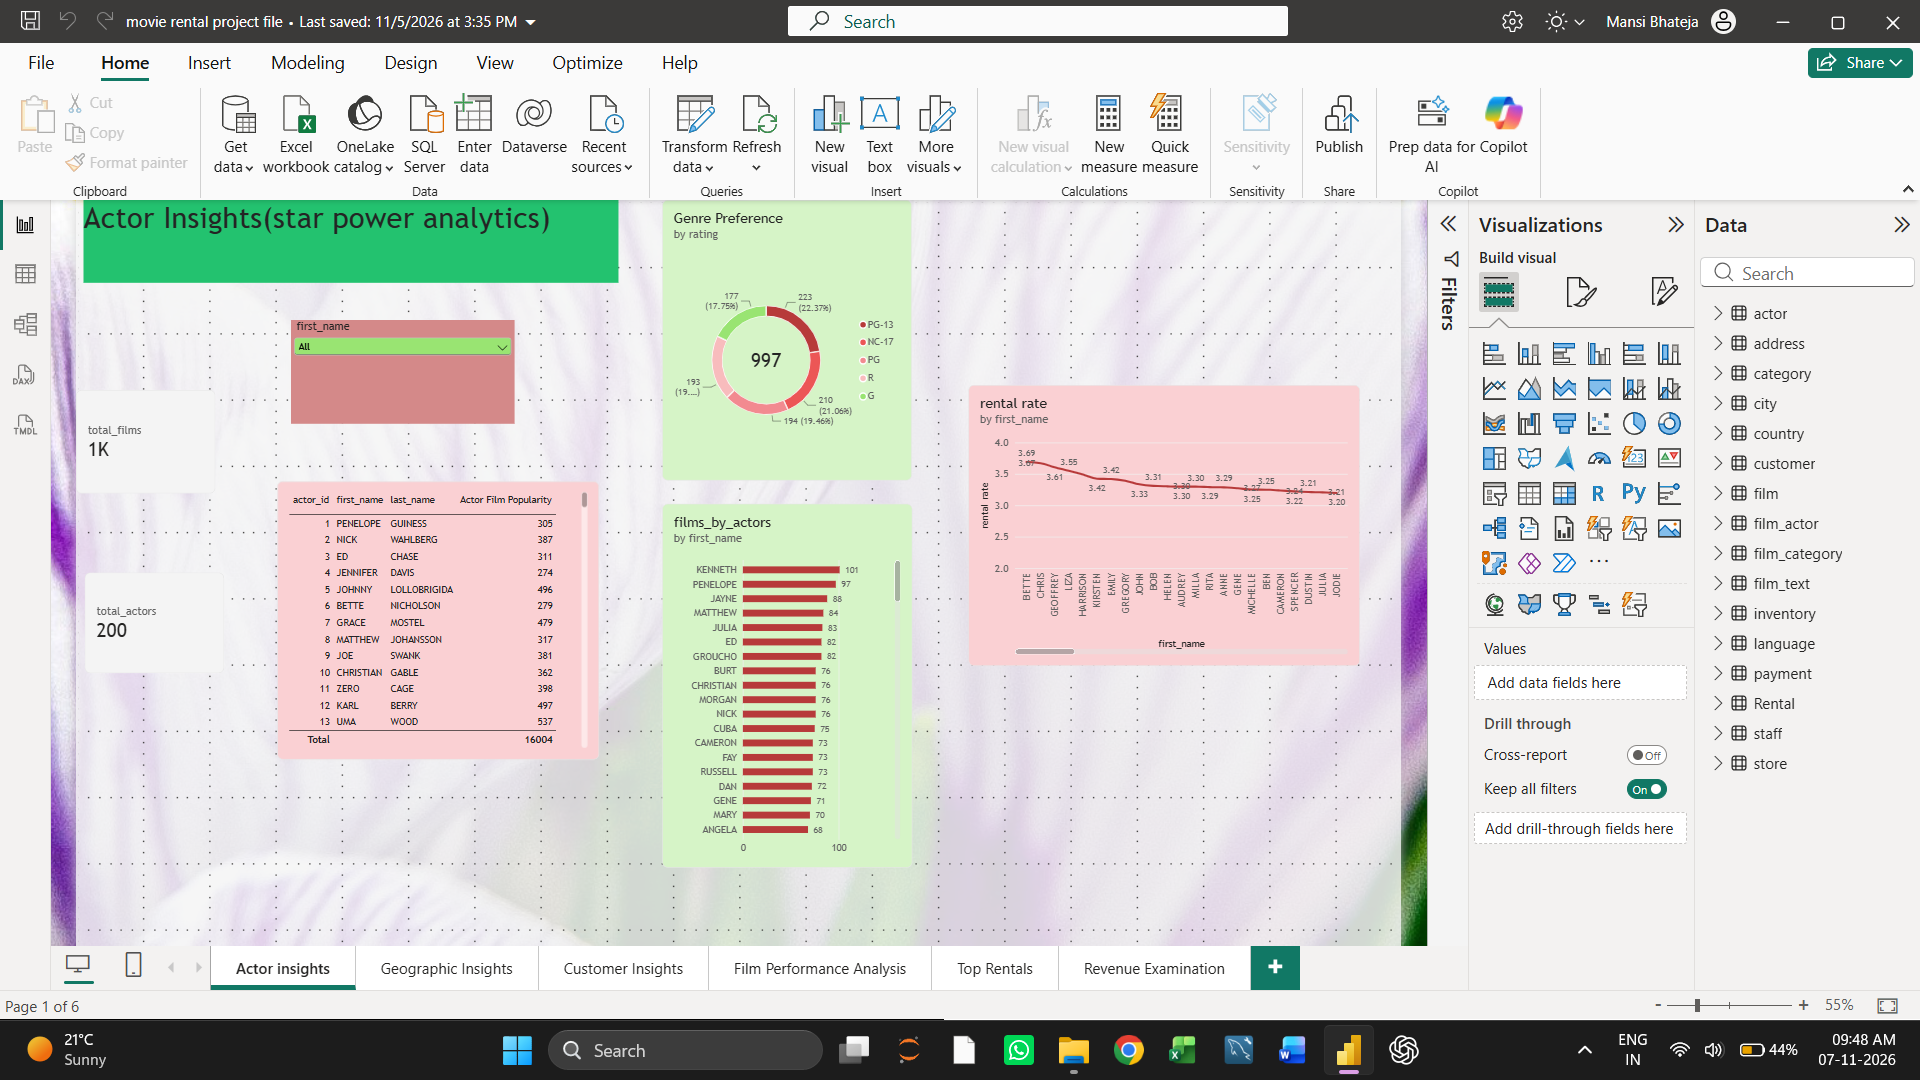

The page's visual inventory and layout, read from the dashboard file:
{"tool":"powerbi","page":{"name":"Actor insights","canvas":[1920,1080],"ordinal":0},"visuals":[{"type":"textbox","box":[10,0,775,120],"z":0},{"type":"cardVisual","fields":{"Data":["film.total_films"]},"box":[0,275.3,202,150],"z":1000},{"type":"cardVisual","fields":{"Data":["actor.total_actors"]},"box":[12.7,539.8,202,146],"z":2000},{"type":"slicer","fields":{"Values":["actor.first_name"]},"box":[311.5,173.9,324,150],"z":4000},{"type":"tableEx","fields":{"Values":["actor.actor_id","actor.first_name","actor.last_name","film.Actor Film Popularity"]},"box":[291.6,407.5,466.7,403.3],"z":5000},{"type":"donutChart","fields":{"Category":["film.rating"],"Y":["actor.Genre Preference"]},"box":[850,0,361.7,406.7],"z":6000},{"type":"barChart","fields":{"Category":["actor.first_name"],"Y":["actor.films_by_actors"]},"box":[849.5,440.2,362.3,527.1],"z":7000},{"type":"lineChart","fields":{"Category":["actor.first_name"],"Y":["film.Average Rental Rate by Actor"]},"box":[1293.3,268.1,566.9,407.5],"z":8000}]}

Visuals, with their boxes on the page's 1920x1080 design canvas (x1, y1, x2, y2). These are canvas units, not pixel positions in the 1920x1080 screenshot, which may show the page scaled, cropped or inside an application window:
textbox: [left=10, top=0, right=785, bottom=120]
cardVisual - film.total_films: [left=0, top=275, right=202, bottom=425]
cardVisual - actor.total_actors: [left=13, top=540, right=215, bottom=686]
slicer - actor.first_name: [left=312, top=174, right=636, bottom=324]
tableEx - actor.actor_id x actor.first_name: [left=292, top=408, right=758, bottom=811]
donutChart - film.rating x actor.Genre Preference: [left=850, top=0, right=1212, bottom=407]
barChart - actor.first_name x actor.films_by_actors: [left=850, top=440, right=1212, bottom=967]
lineChart - actor.first_name x film.Average Rental Rate by Actor: [left=1293, top=268, right=1860, bottom=676]
